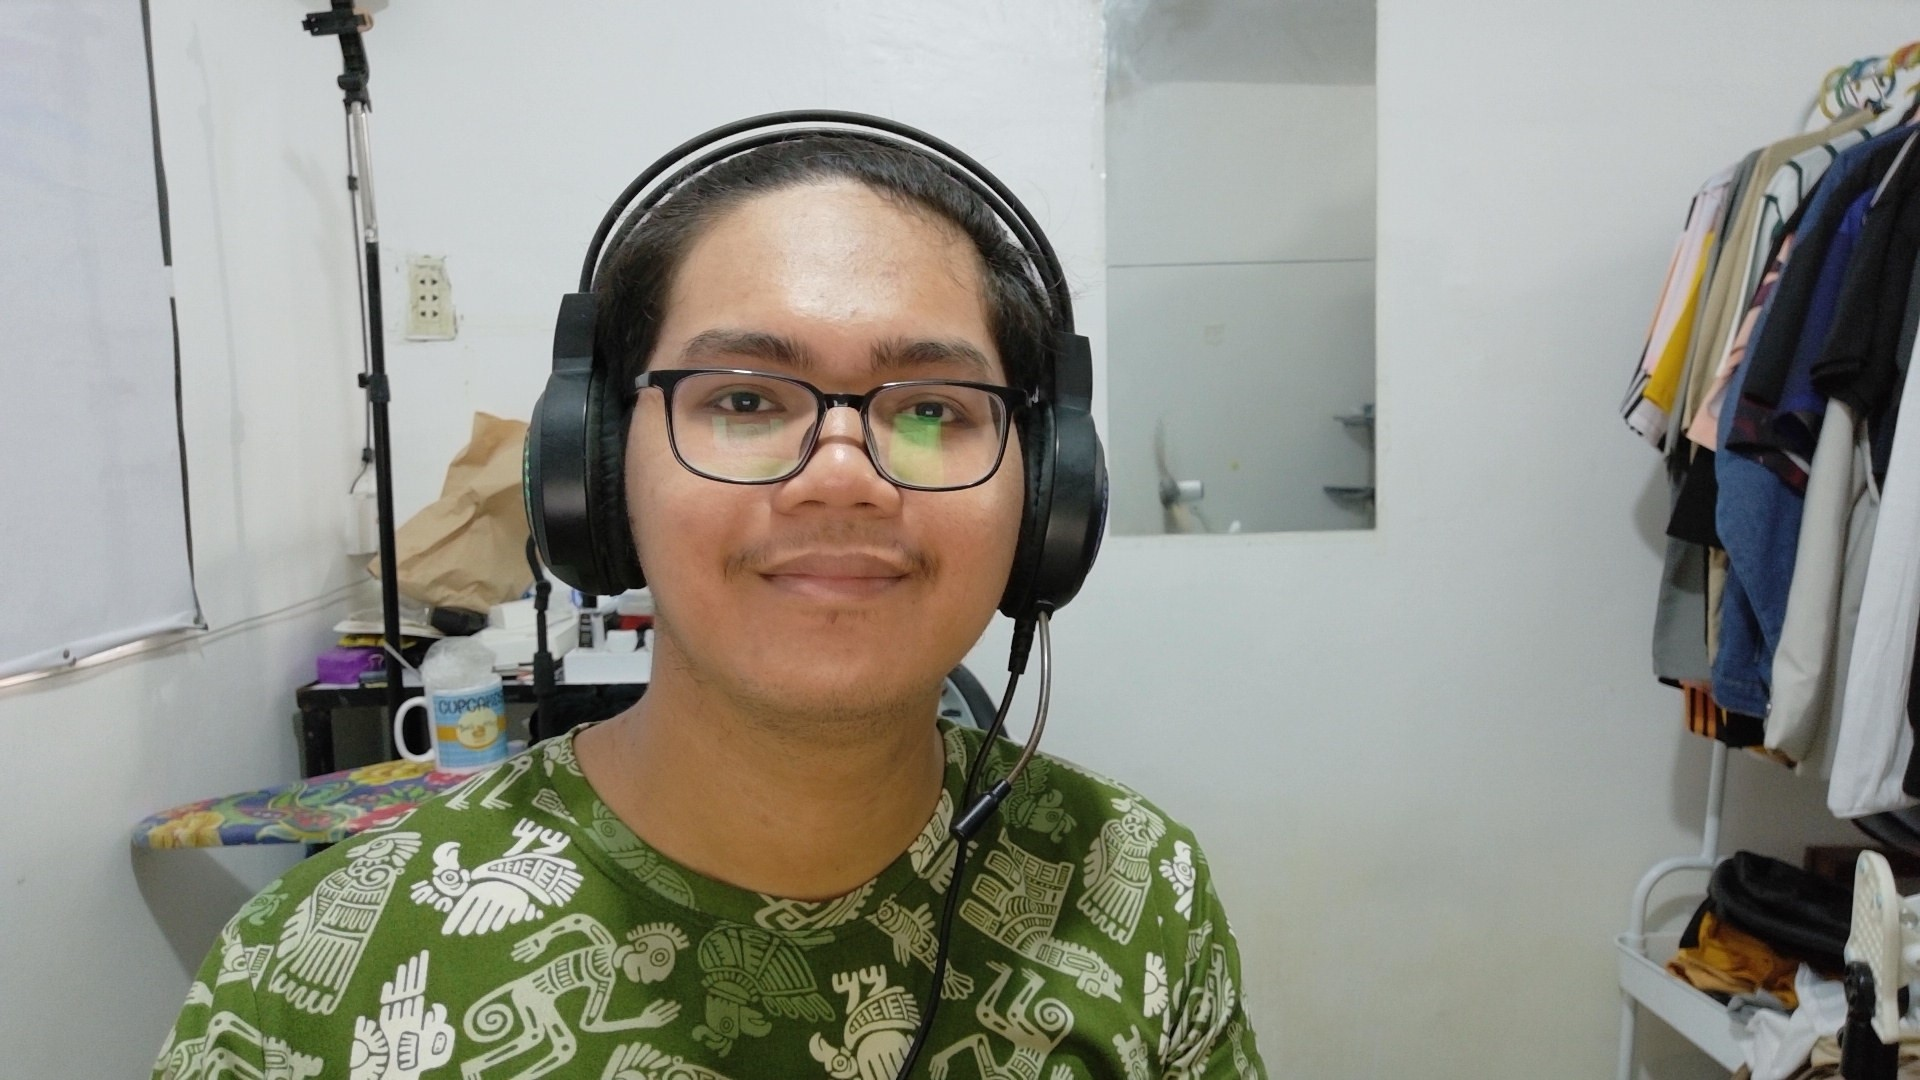face: (501, 102, 1118, 752)
